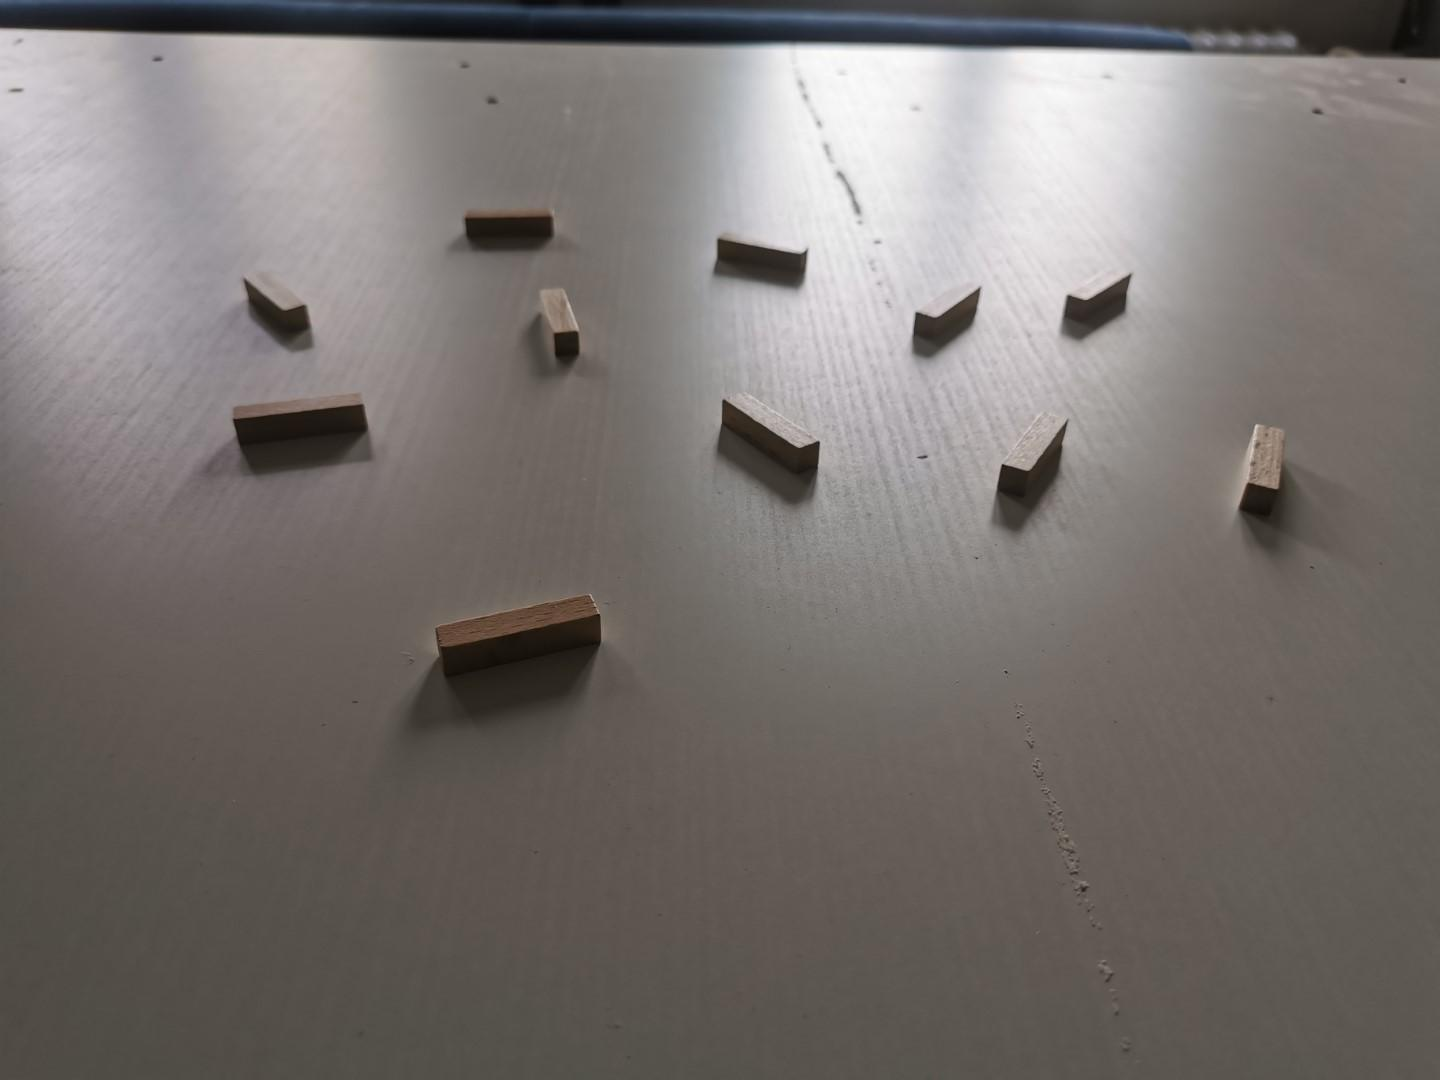jenga: (435, 594, 600, 676), (723, 393, 820, 472), (231, 393, 367, 444), (1000, 411, 1068, 495), (1242, 424, 1288, 514), (243, 271, 310, 329), (915, 280, 982, 338), (717, 231, 808, 270), (1066, 271, 1133, 319), (540, 287, 581, 355), (465, 206, 554, 236)
